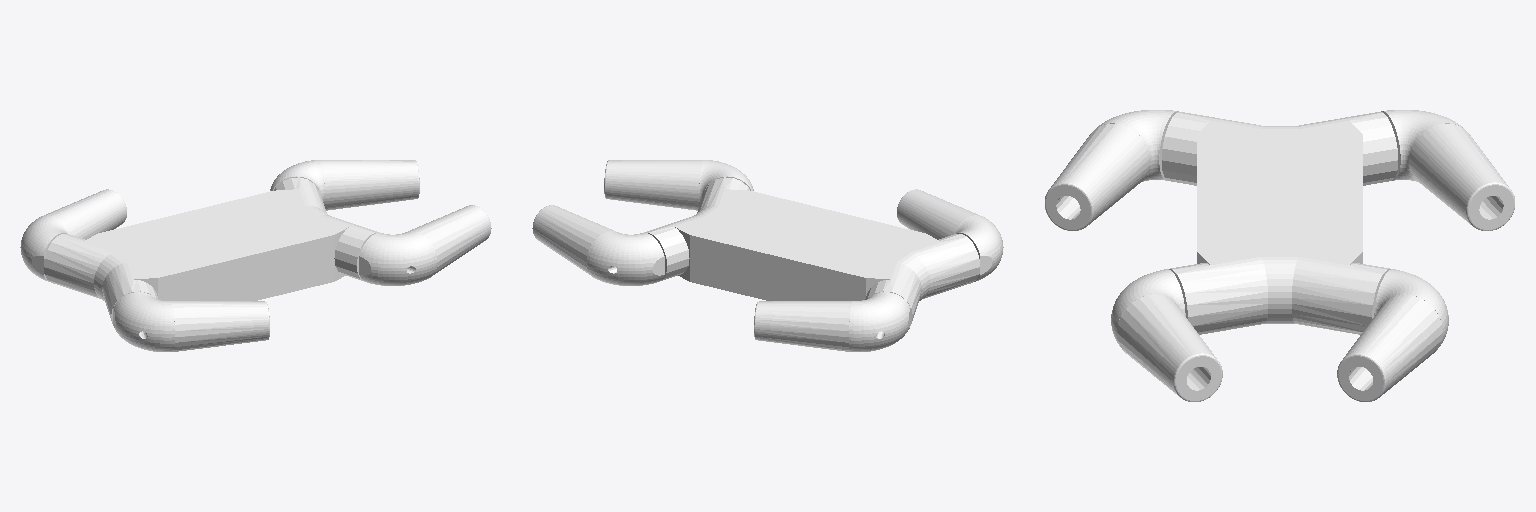
URDF robot description (22_degree):
<?xml version="1.0" encoding="utf-8"?>
<!-- This URDF was automatically created by SolidWorks to URDF Exporter! Originally created by [author] ([email redacted]) 
     Commit Version: 1.5.1-0-g916b5db  Build Version: 1.5.7152.31018
     For more information, please see http://wiki.ros.org/sw_urdf_exporter -->
<robot
  name="22_degree">
  <link
    name="base_link">
    <inertial>
      <origin
        xyz="-6.9389E-18 4.62E-08 -1.4142E-09"
        rpy="0 0 0" />
      <mass
        value="2.942" />
      <inertia
        ixx="0.0096770"
        ixy="2.3317E-09"
        ixz="-1.5403E-10"
        iyy="0.0462740"
        iyz="-3.1716E-18"
        izz="0.0535342" />
    </inertial>
    <visual>
      <origin
        xyz="0 0 0"
        rpy="0 0 0" />
      <geometry>
        <mesh
          filename="package://22_degree/meshes/base_link.STL" />
      </geometry>
      <material
        name="">
        <color
          rgba="1 1 1 1" />
      </material>
    </visual>
    <collision>
      <origin
        xyz="0 0 0"
        rpy="0 0 0" />
      <geometry>
        <mesh
          filename="package://22_degree/meshes/base_link.STL" />
      </geometry>
    </collision>
  </link>
  <link
    name="left_front_link">
    <inertial>
      <origin
        xyz="-9.5326E-08 0.056833 -0.03601"
        rpy="0 0 0" />
      <mass
        value="0.092" />
      <inertia
        ixx="0.0002604"
        ixy="5.8516E-10"
        ixz="3.1552E-10"
        iyy="0.0000526"
        iyz="2.27E-05"
        izz="0.0002575" />
    </inertial>
    <visual>
      <origin
        xyz="0 0 0"
        rpy="0 0 0" />
      <geometry>
        <mesh
          filename="package://22_degree/meshes/left_front_link.STL" />
      </geometry>
      <material
        name="">
        <color
          rgba="1 1 1 1" />
      </material>
    </visual>
    <collision>
      <origin
        xyz="0 0 0"
        rpy="0 0 0" />
      <geometry>
        <mesh
          filename="package://22_degree/meshes/left_front_link.STL" />
      </geometry>
    </collision>
  </link>
  <joint
    name="left_front_leg"
    type="continuous">
    <origin
      xyz="0.16858 0.0955 0"
      rpy="1.9548 1.5708 0" />
    <parent
      link="base_link" />
    <child
      link="left_front_link" />
    <axis
      xyz="0 0 -1" />
    <limit
      effort="5"
      velocity="487" />
  </joint>
  <link
    name="right_front_link">
    <inertial>
      <origin
        xyz="9.5326E-08 0.056833 0.03601"
        rpy="0 0 0" />
      <mass
        value="0.092" />
      <inertia
        ixx="0.0002604"
        ixy="-5.8516E-10"
        ixz="3.1552E-10"
        iyy="0.0000526"
        iyz="-2.27E-05"
        izz="0.0002575" />
    </inertial>
    <visual>
      <origin
        xyz="0 0 0"
        rpy="0 0 0" />
      <geometry>
        <mesh
          filename="package://22_degree/meshes/right_front_link.STL" />
      </geometry>
      <material
        name="">
        <color
          rgba="1 1 1 1" />
      </material>
    </visual>
    <collision>
      <origin
        xyz="0 0 0"
        rpy="0 0 0" />
      <geometry>
        <mesh
          filename="package://22_degree/meshes/right_front_link.STL" />
      </geometry>
    </collision>
  </link>
  <joint
    name="right_front_leg"
    type="continuous">
    <origin
      xyz="0.16858 -0.0955 0"
      rpy="1.1868 1.5708 0" />
    <parent
      link="base_link" />
    <child
      link="right_front_link" />
    <axis
      xyz="0 0 1" />
    <limit
      effort="5"
      velocity="487" />
  </joint>
  <link
    name="right_back_link">
    <inertial>
      <origin
        xyz="8.4912E-08 0.056834 0.03601"
        rpy="0 0 0" />
      <mass
        value="0.092" />
      <inertia
        ixx="0.0002604"
        ixy="-4.8449E-10"
        ixz="5.8747E-10"
        iyy="0.0000526"
        iyz="-2.27E-05"
        izz="0.0002575" />
    </inertial>
    <visual>
      <origin
        xyz="0 0 0"
        rpy="0 0 0" />
      <geometry>
        <mesh
          filename="package://22_degree/meshes/right_back_link.STL" />
      </geometry>
      <material
        name="">
        <color
          rgba="1 1 1 1" />
      </material>
    </visual>
    <collision>
      <origin
        xyz="0 0 0"
        rpy="0 0 0" />
      <geometry>
        <mesh
          filename="package://22_degree/meshes/right_back_link.STL" />
      </geometry>
    </collision>
  </link>
  <joint
    name="right_back_leg"
    type="continuous">
    <origin
      xyz="-0.16858 -0.0955 0"
      rpy="1.9548 1.5708 0" />
    <parent
      link="base_link" />
    <child
      link="right_back_link" />
    <axis
      xyz="0 0 1" />
    <limit
      effort="5"
      velocity="487" />
  </joint>
  <link
    name="left_back_link">
    <inertial>
      <origin
        xyz="-8.4912E-08 0.056834 -0.03601"
        rpy="0 0 0" />
      <mass
        value="0.092" />
      <inertia
        ixx="0.0002604"
        ixy="4.8449E-10"
        ixz="5.8747E-10"
        iyy="0.0000526"
        iyz="2.27E-05"
        izz="0.0002575" />
    </inertial>
    <visual>
      <origin
        xyz="0 0 0"
        rpy="0 0 0" />
      <geometry>
        <mesh
          filename="package://22_degree/meshes/left_back_link.STL" />
      </geometry>
      <material
        name="">
        <color
          rgba="1 1 1 1" />
      </material>
    </visual>
    <collision>
      <origin
        xyz="0 0 0"
        rpy="0 0 0" />
      <geometry>
        <mesh
          filename="package://22_degree/meshes/left_back_link.STL" />
      </geometry>
    </collision>
  </link>
  <joint
    name="left_back_leg"
    type="continuous">
    <origin
      xyz="-0.16858 0.0955 0"
      rpy="1.1868 1.5708 0" />
    <parent
      link="base_link" />
    <child
      link="left_back_link" />
    <axis
      xyz="0 0 -1" />
    <limit
      effort="5"
      velocity="487" />
  </joint>
</robot>

--- Render facts (derived) ---
3 views of the same robot in one strip: view 1: azimuth 30°, elevation 25°; view 2: azimuth 150°, elevation 25°; view 3: azimuth 270°, elevation 25° (orthographic).
Model 22_degree with 5 links and 4 joints (4 continuous), rooted at base_link, posed all joints at 0.
Links seen in each view (by area): view 1: base_link, right_back_link, right_front_link, left_front_link, left_back_link; view 2: base_link, left_back_link, left_front_link, right_front_link, right_back_link; view 3: base_link, left_back_link, right_back_link, right_front_link, left_front_link.
Boxes of the visible links, x1,y1,x2,y2 form: base_link: [44, 177, 379, 323]; right_back_link: [113, 292, 269, 351]; right_front_link: [359, 205, 491, 285]; left_front_link: [270, 160, 419, 210]; left_back_link: [20, 189, 126, 281]; base_link: [644, 177, 979, 323]; left_back_link: [754, 292, 910, 351]; left_front_link: [532, 205, 664, 285]; right_front_link: [604, 160, 753, 210]; right_back_link: [897, 189, 1003, 281]; base_link: [1162, 112, 1397, 334]; left_back_link: [1381, 110, 1514, 230]; right_back_link: [1045, 110, 1178, 230]; right_front_link: [1111, 269, 1222, 401]; left_front_link: [1337, 269, 1448, 401].
Bounding box of the posed robot: 0.5427 × 0.4274 × 0.064 m (x, y, z).
Meshes: 5 distinct files referenced, 5 mesh visuals loaded (5 binary STL).